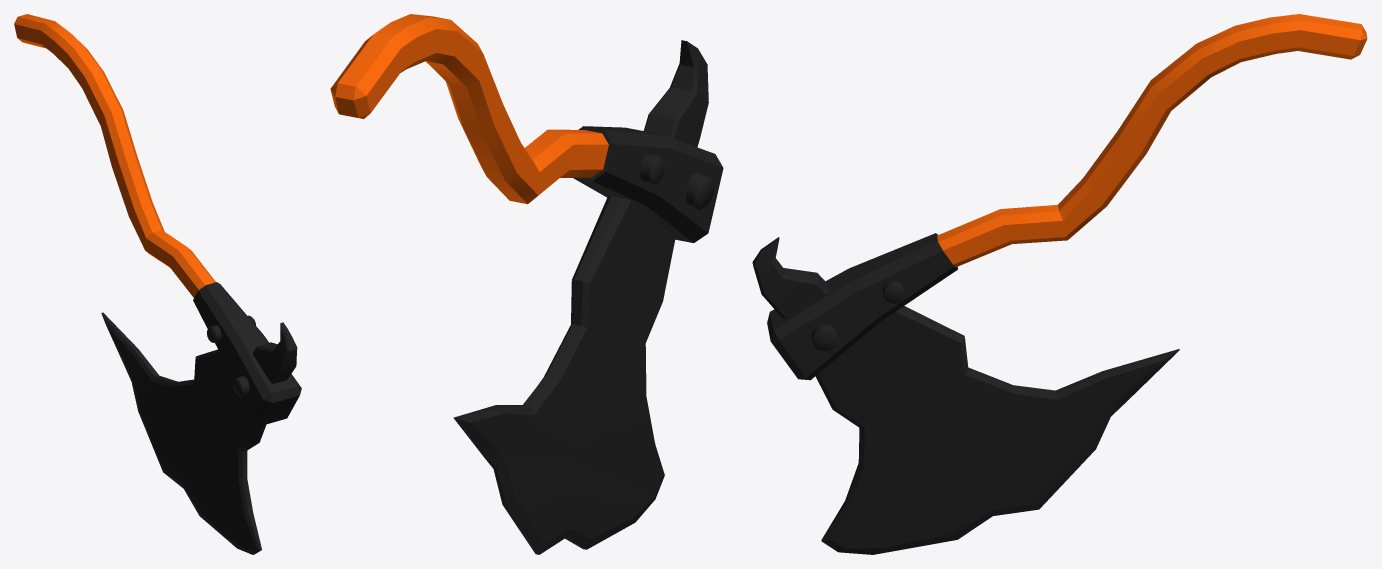
File: Axe_Mat.obj
3 views of the same model, side by side, from view 1: azimuth 30°, elevation 25°; view 2: azimuth 150°, elevation 25°; view 3: azimuth 270°, elevation 25° (orthographic). The views are drawn at different scales.
Visible parts, largest first — view 1: Axe Scene axeHead, axeBody Axe Scene; view 2: Axe Scene axeHead, axeBody Axe Scene; view 3: Axe Scene axeHead, axeBody Axe Scene.
Part boxes in pixels (left/top/right/bottom): Axe Scene axeHead: left=101, top=282, right=301, bottom=554; axeBody Axe Scene: left=14, top=14, right=215, bottom=297; Axe Scene axeHead: left=453, top=40, right=723, bottom=554; axeBody Axe Scene: left=330, top=14, right=608, bottom=204; Axe Scene axeHead: left=752, top=233, right=1179, bottom=554; axeBody Axe Scene: left=937, top=14, right=1367, bottom=266.
Size of the model in its own units: 0.8962 by 5.31 by 5.65.
